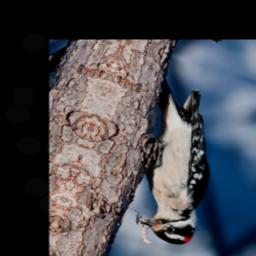Woodpecker: (113, 80, 243, 250)
